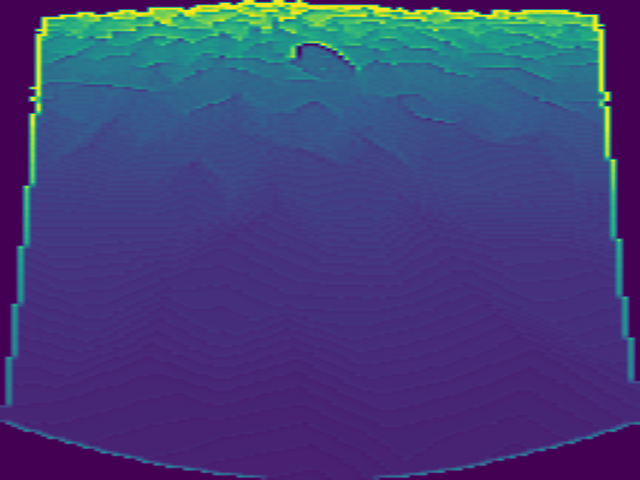car_0198: (287, 40, 363, 84)
